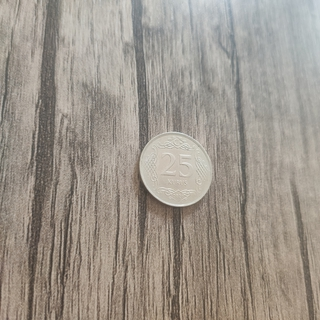25KURUS: (137, 130, 214, 209)
